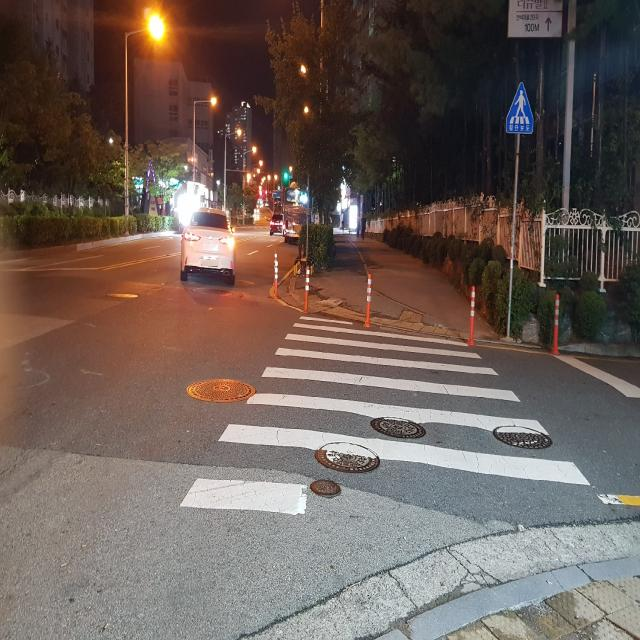횡단보도: (180, 317, 590, 515)
